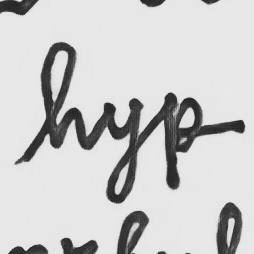h: (39, 39, 88, 152)
p: (160, 90, 205, 193)
y: (99, 95, 144, 205)
